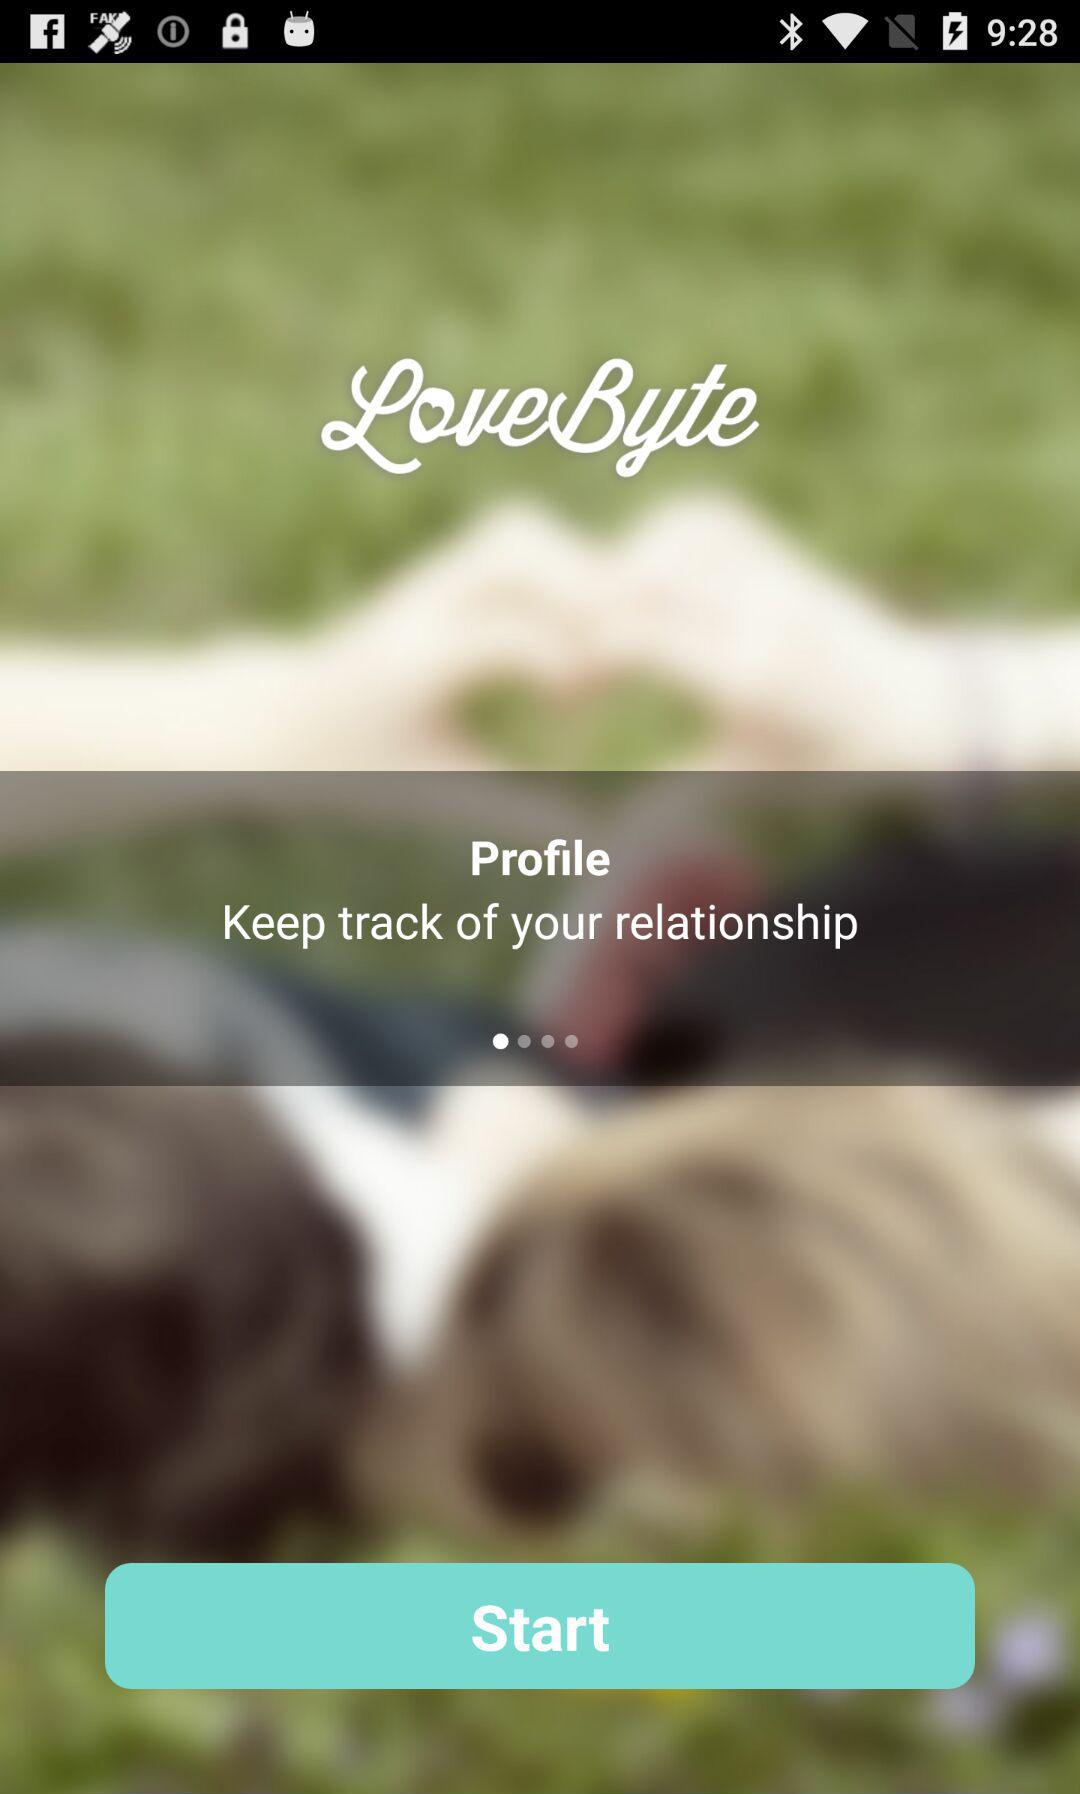BackgroundImage: (1, 64, 1080, 1794)
Image: (320, 358, 760, 479)
PageIndicator: (491, 1032, 582, 1052)
Text: (223, 902, 857, 953), (470, 838, 611, 878)
TextButton: (105, 1562, 976, 1690)
UpperTaskBar: (1, 1, 1080, 64)
